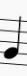G: (3, 13, 22, 70)
